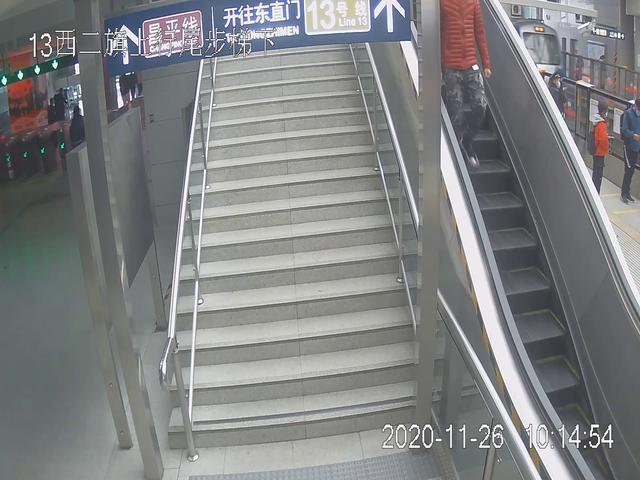person: (430, 1, 494, 173)
